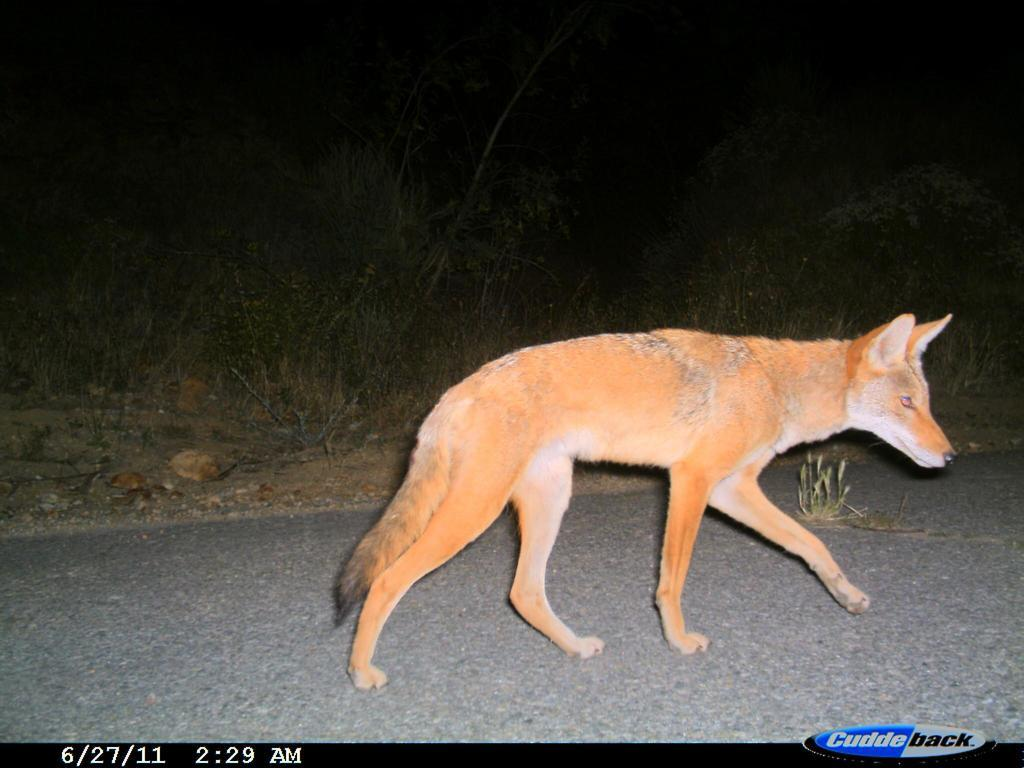coyote: (333, 305, 966, 707)
